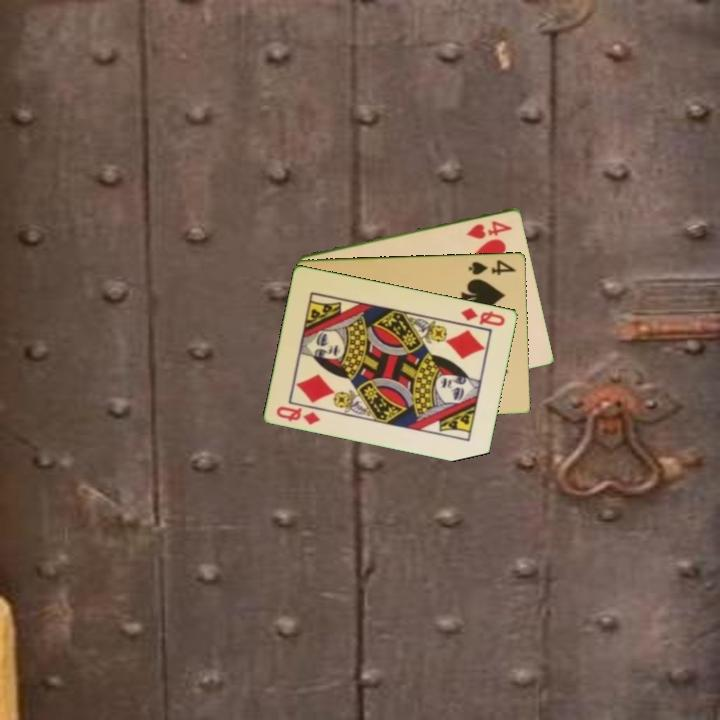4h: (463, 217, 515, 241)
4s: (466, 256, 519, 277)
Qd: (273, 402, 324, 427), (458, 304, 508, 329)
